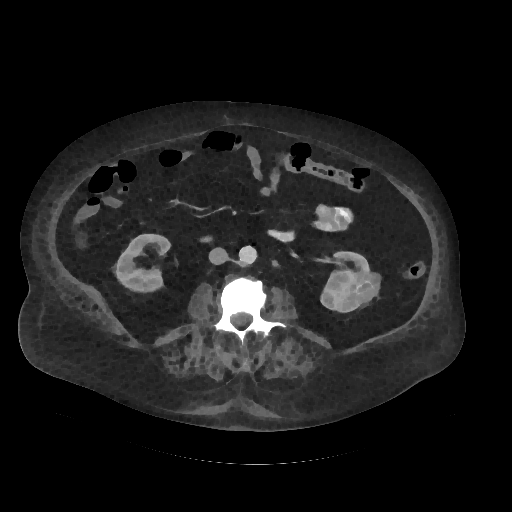Lesion: (344, 267, 384, 311)
